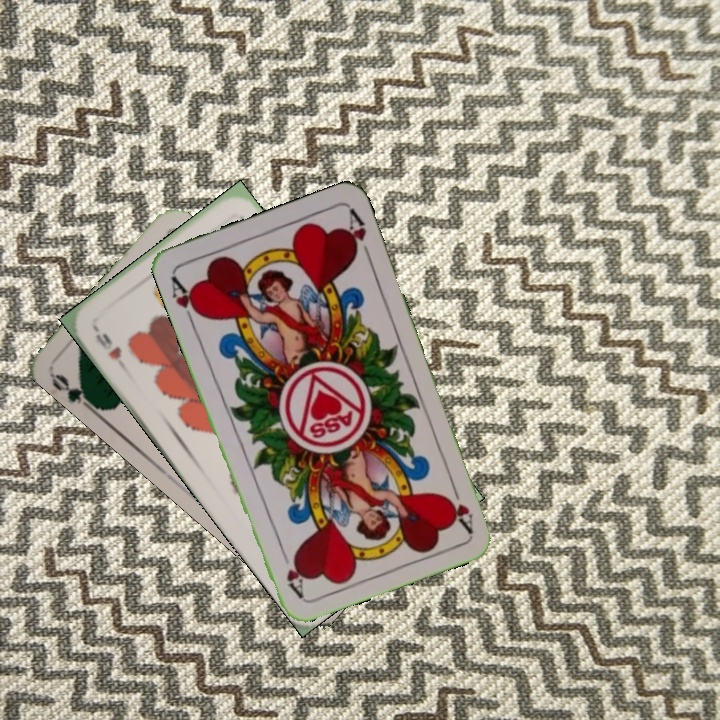GO: (47, 369, 99, 415)
H9: (90, 323, 124, 363)
HA: (166, 271, 205, 328), (441, 477, 476, 535)
